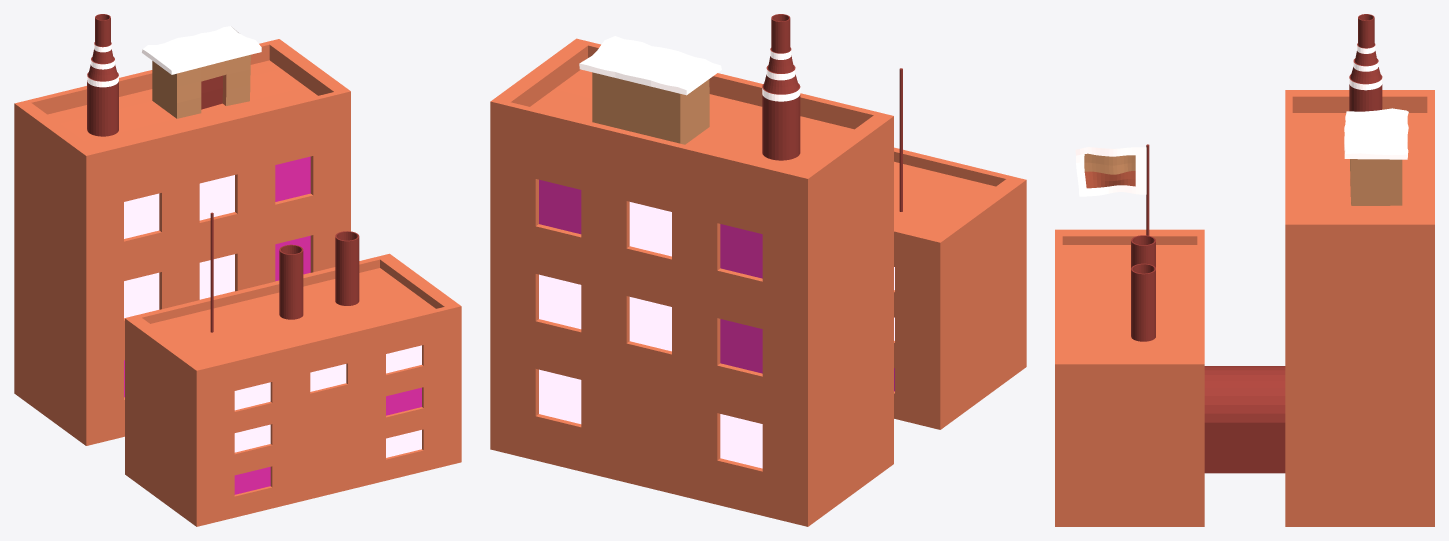
Rendered from factory.glb.
3 views of the same model, side by side, from view 1: azimuth 30°, elevation 25°; view 2: azimuth 150°, elevation 25°; view 3: azimuth 270°, elevation 25° (orthographic). The views are drawn at different scales.
Visible parts, largest first — view 1: Cube.002; view 2: Cube.002; view 3: Cube.002.
Boxes of the visible parts, bbox=[...] form: Cube.002: bbox=[14, 14, 461, 526]; Cube.002: bbox=[490, 14, 1026, 526]; Cube.002: bbox=[1055, 14, 1434, 526].
Bounding box in the file's own units: 5.31 × 7.41 × 6.32.
